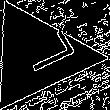L_SW: (5, 31, 72, 82)
